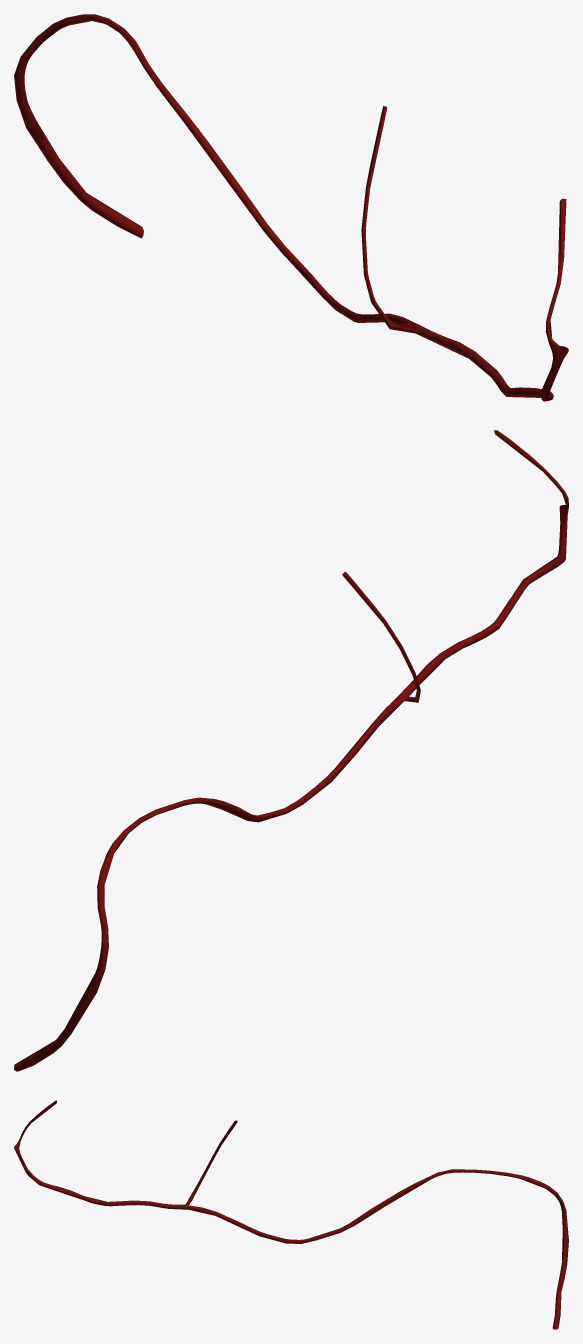
File: R arteria vertebralis.fbx
3 views of the same model, one above another, from view 1: azimuth 30°, elevation 25°; view 2: azimuth 150°, elevation 25°; view 3: azimuth 270°, elevation 25° (orthographic). The views are drawn at different scales.
Visible parts, largest first — view 1: R arteria vertebralis, R arteria vertebralis low, R arteria vertebralis high; view 2: R arteria vertebralis, R arteria vertebralis low, R arteria vertebralis high; view 3: R arteria vertebralis, R arteria vertebralis low, R arteria vertebralis high.
Part boxes in pixels (left/top/right/bottom): R arteria vertebralis: left=14, top=14, right=568, bottom=401; R arteria vertebralis low: left=15, top=15, right=568, bottom=399; R arteria vertebralis high: left=19, top=19, right=568, bottom=396; R arteria vertebralis: left=14, top=430, right=568, bottom=1071; R arteria vertebralis low: left=17, top=430, right=568, bottom=1070; R arteria vertebralis high: left=55, top=430, right=567, bottom=1043; R arteria vertebralis: left=14, top=1100, right=568, bottom=1328; R arteria vertebralis low: left=14, top=1102, right=568, bottom=1329; R arteria vertebralis high: left=14, top=1101, right=567, bottom=1329.
Size of the model in its own units: 3.63 by 11.19 by 26.62.
